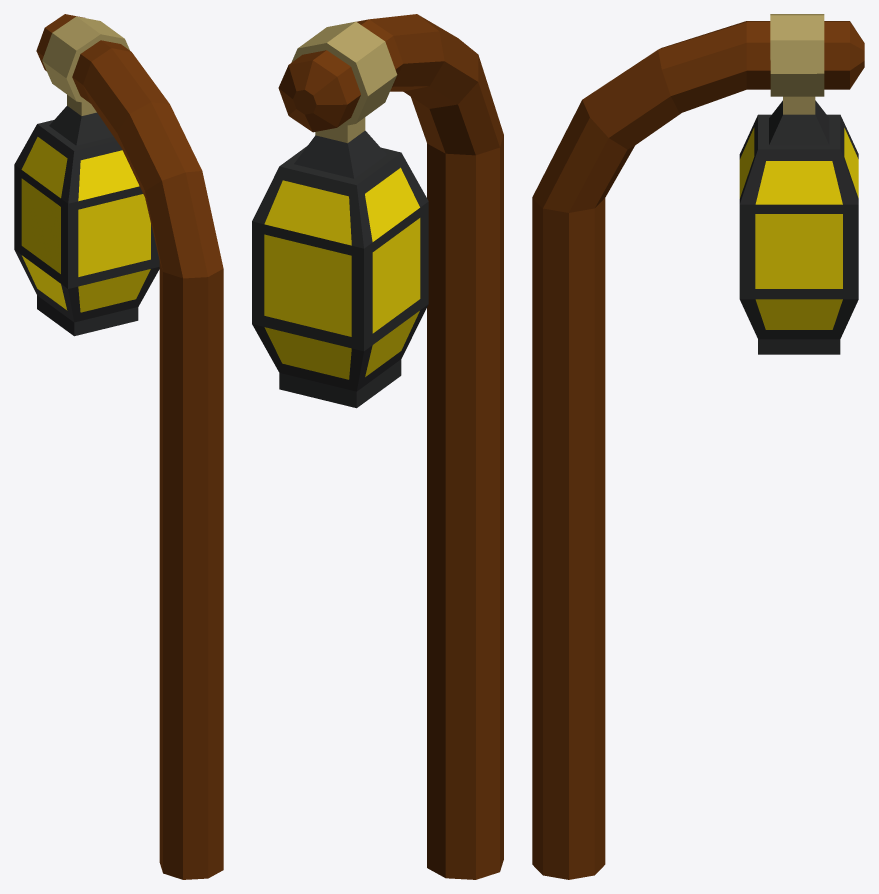
File: Lamp.fbx
3 renders of one model, left to right at view 1: azimuth 30°, elevation 25°; view 2: azimuth 150°, elevation 25°; view 3: azimuth 270°, elevation 25°, orthographic. The views are drawn at different scales.
Visible parts, largest first — view 1: Cylinder.052, Cylinder.053; view 2: Cylinder.052, Cylinder.053; view 3: Cylinder.052, Cylinder.053.
Boxes of the visible parts, bbox=[...] form: Cylinder.052: bbox=[14, 14, 223, 879]; Cylinder.053: bbox=[21, 137, 150, 312]; Cylinder.052: bbox=[252, 14, 503, 879]; Cylinder.053: bbox=[264, 167, 420, 379]; Cylinder.052: bbox=[532, 14, 864, 879]; Cylinder.053: bbox=[739, 127, 858, 329].
Bounding box in the file's own units: 44.96 × 354 × 126.
